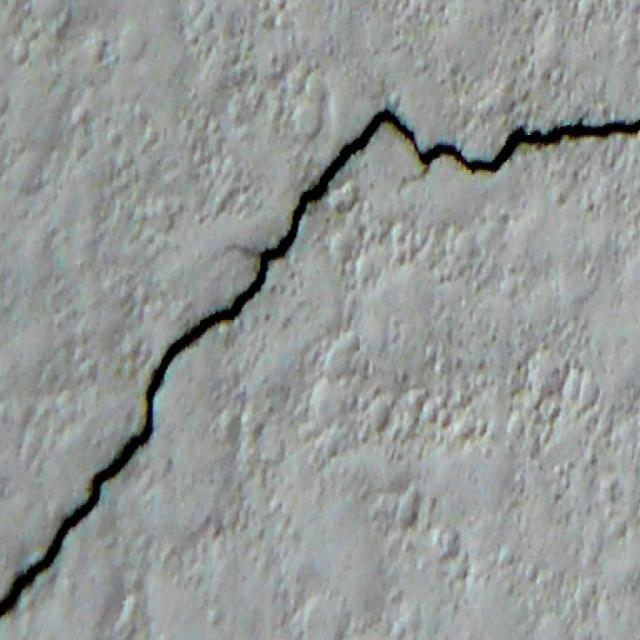Diagonal: (2, 103, 384, 624), (388, 93, 640, 181)
